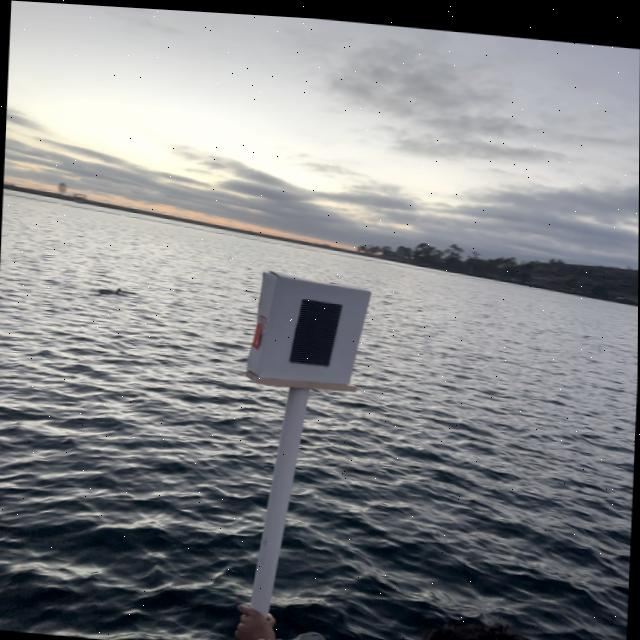led: (268, 276, 350, 381)
